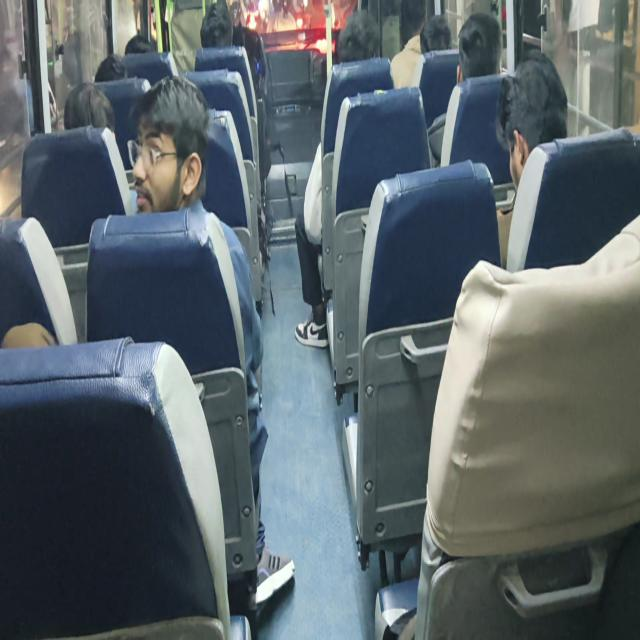person: (125, 74, 294, 590), (294, 9, 382, 348), (494, 49, 569, 267), (427, 11, 503, 167), (456, 11, 503, 83), (389, 0, 427, 89), (63, 81, 116, 134)
